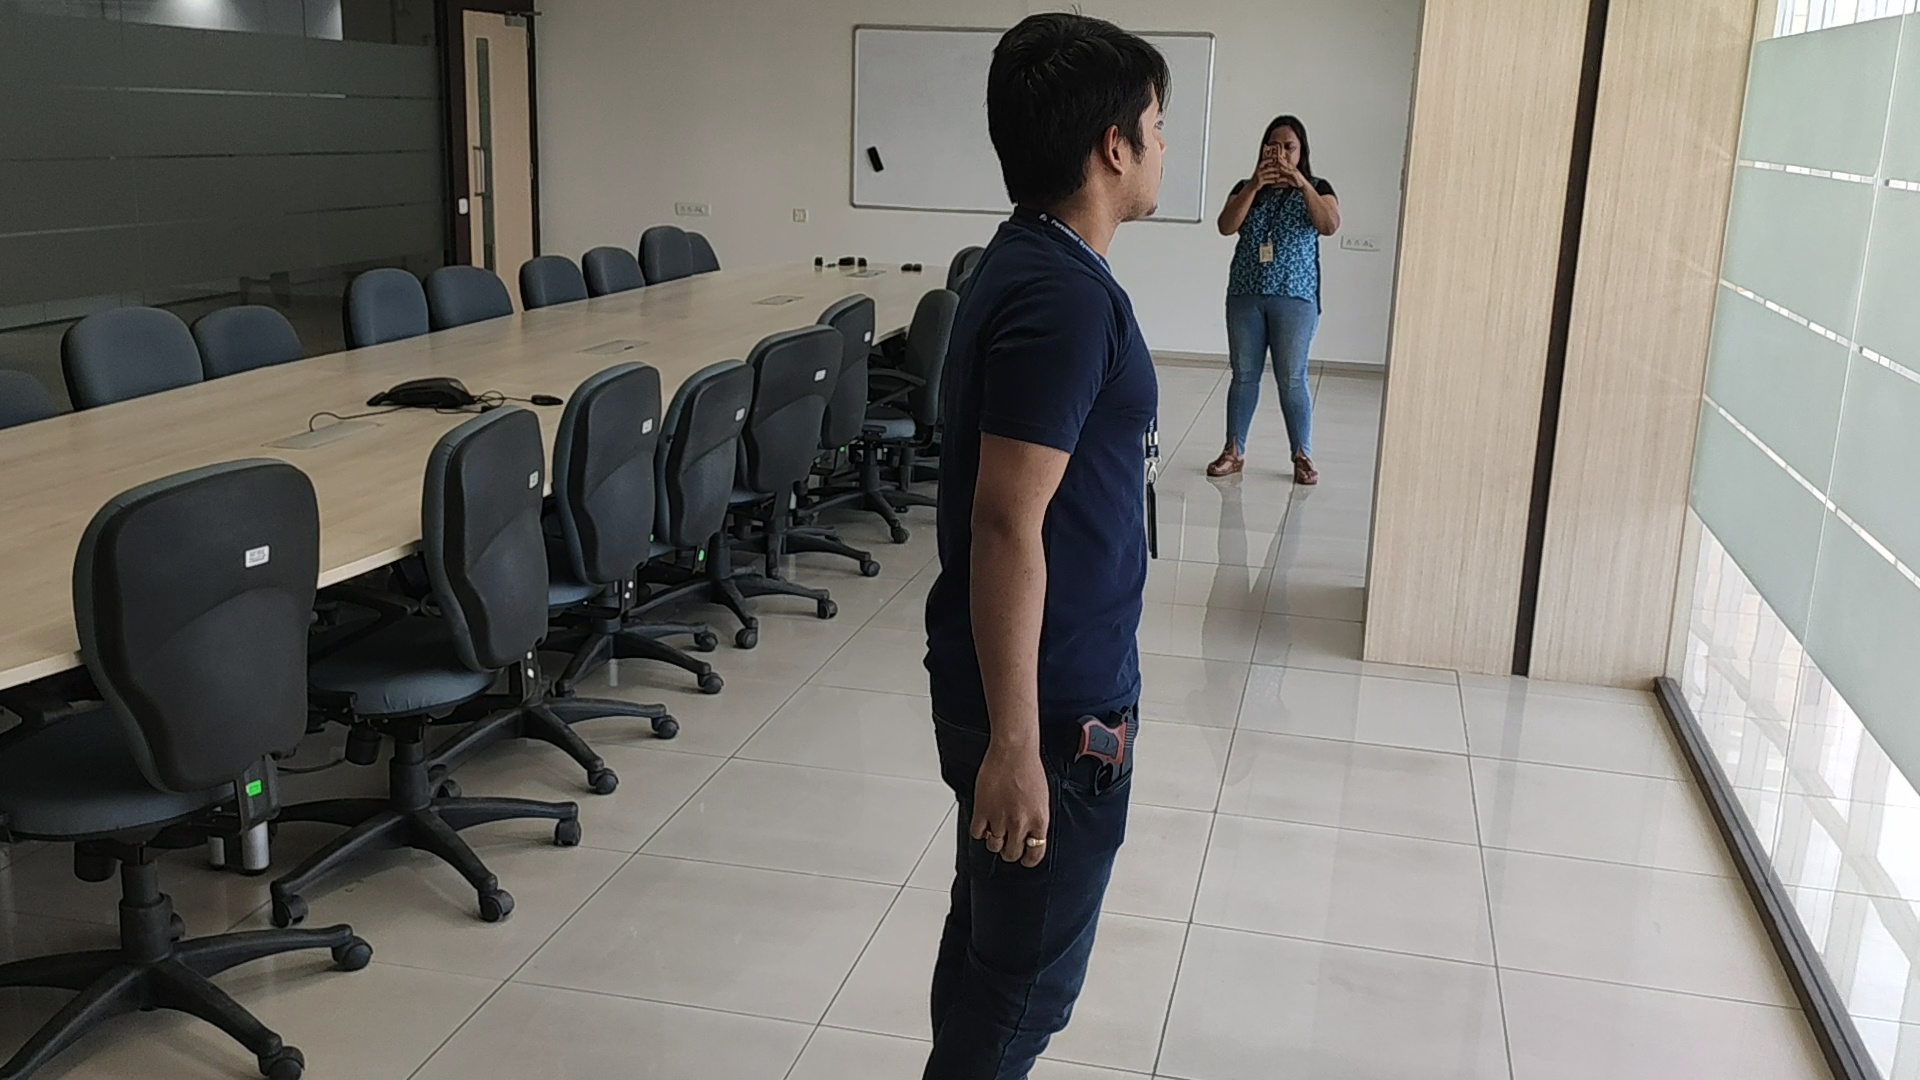gun: (1069, 708, 1137, 796)
